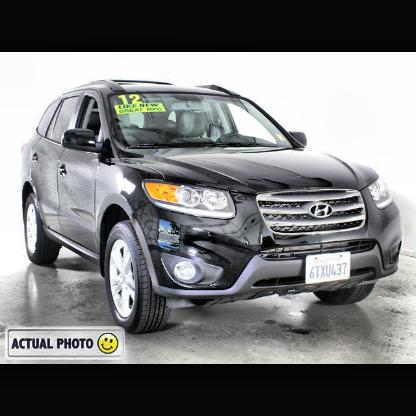Hyundai Santa Fe SUV 2012: (21, 81, 403, 337)
